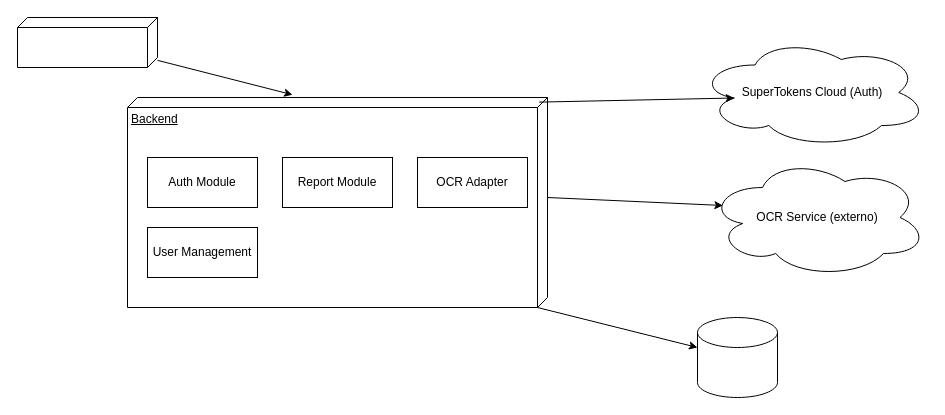
Some shapes in this 945 by 415 pixel diagram are drawn without their labels. Here are the shapes that lost their labels. From the top down, the centre of each, then its label:
(x=87, y=42): App Rendiflow
(x=737, y=357): PostgreSQL DB
